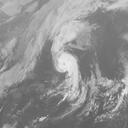cyclone: (51, 41, 82, 82)
